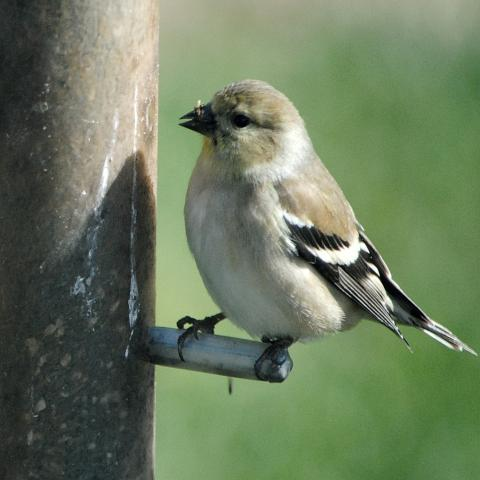bird: (173, 76, 476, 386)
